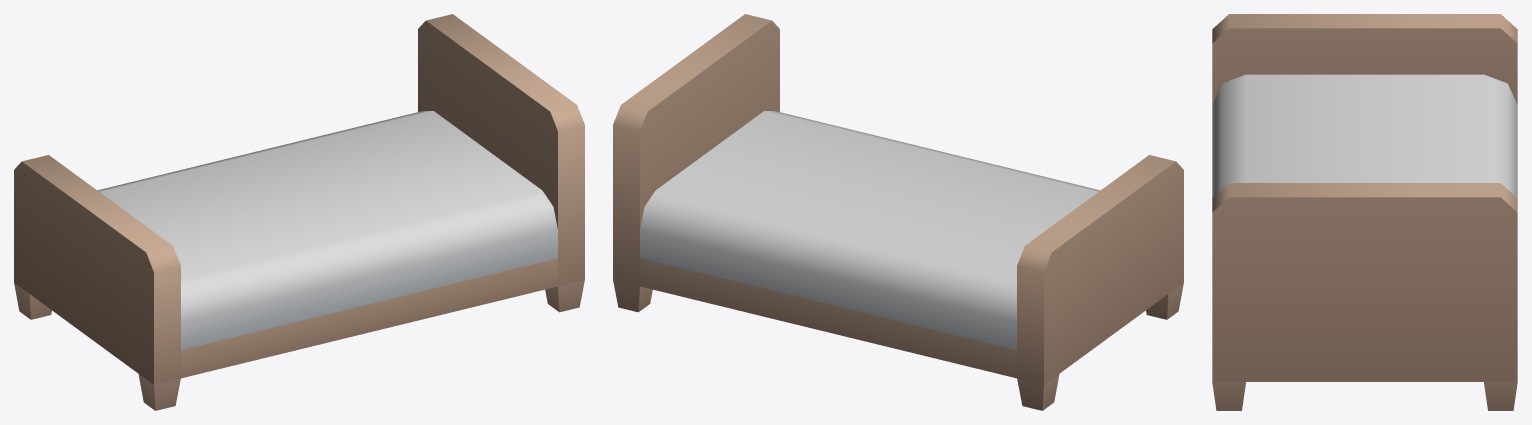
Rendered from bed-basic-single (%thumbnail).glb.
3 views of the same model, side by side, from view 1: azimuth 30°, elevation 25°; view 2: azimuth 150°, elevation 25°; view 3: azimuth 270°, elevation 25° (orthographic). The views are drawn at different scales.
Visible parts, largest first — view 1: bed-basic-single (%thumbnail); view 2: bed-basic-single (%thumbnail); view 3: bed-basic-single (%thumbnail).
Part boxes in pixels (x1,y1,x2,y2): bed-basic-single (%thumbnail): (14, 14, 584, 410); bed-basic-single (%thumbnail): (613, 14, 1183, 410); bed-basic-single (%thumbnail): (1212, 14, 1517, 410).
Bounding box in the file's own units: 1.6 × 0.7 × 0.9.
